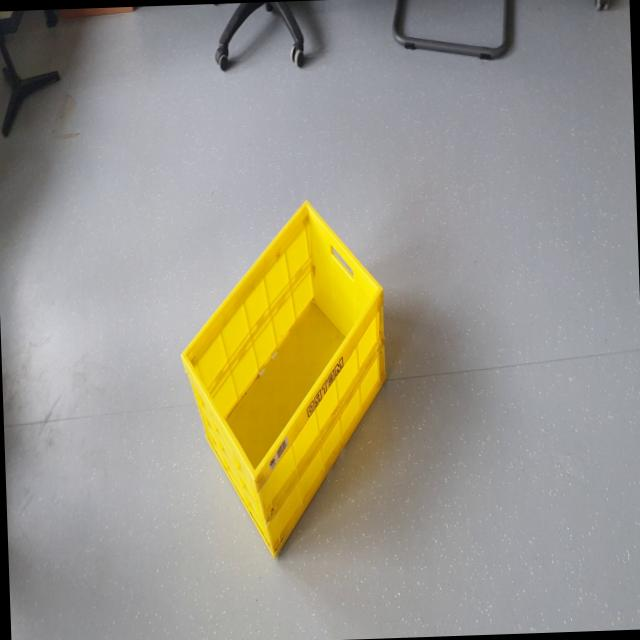box: (172, 198, 403, 586)
